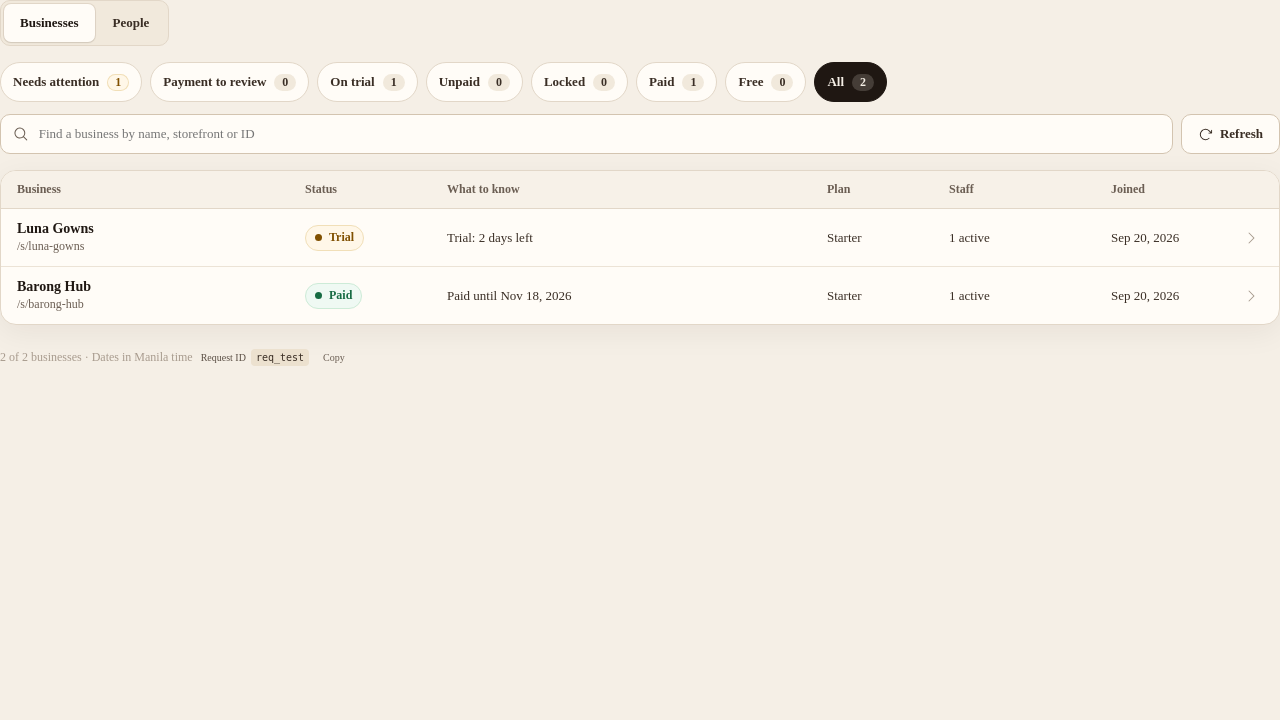
Test: ClientsPanel › opens a business from its row and goes back to the list
Step 1. Click the button "Luna Gowns /s/luna-gowns" → x=55, y=228, box x1=17 y1=221 x2=293 y2=254
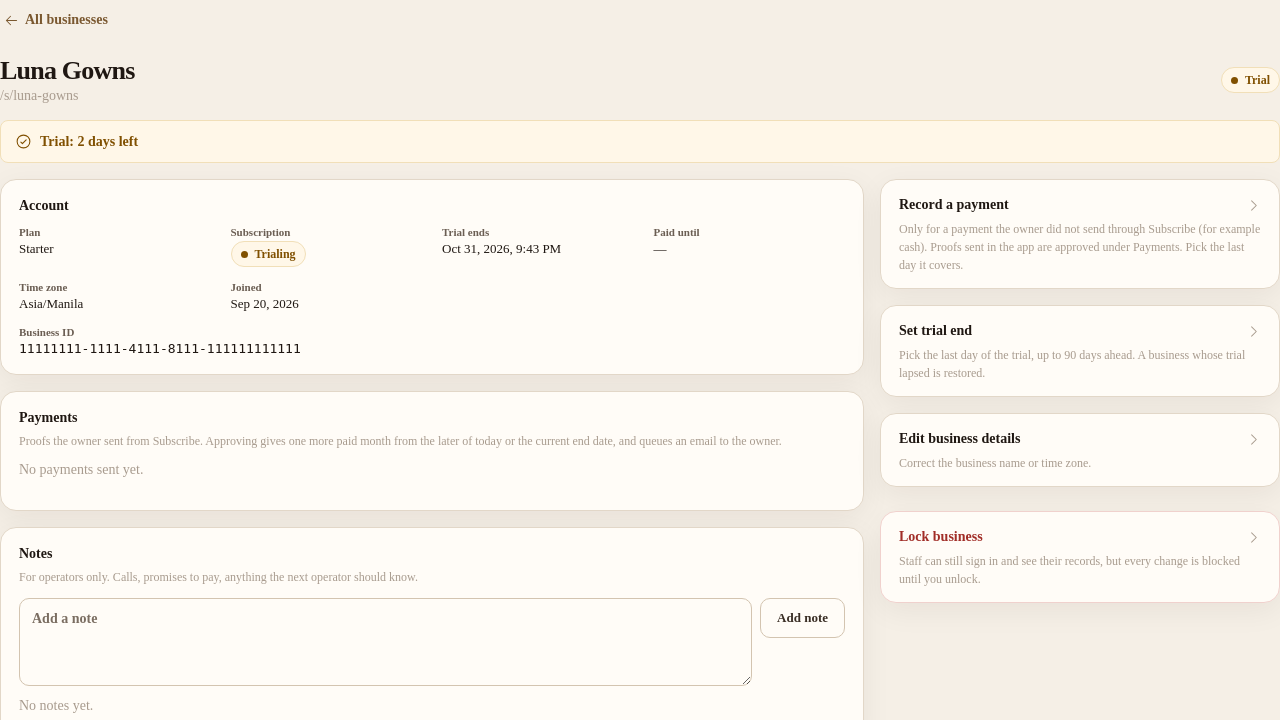
Step 2. Click the button "All businesses" → x=56, y=20, box x1=0 y1=0 x2=112 y2=40
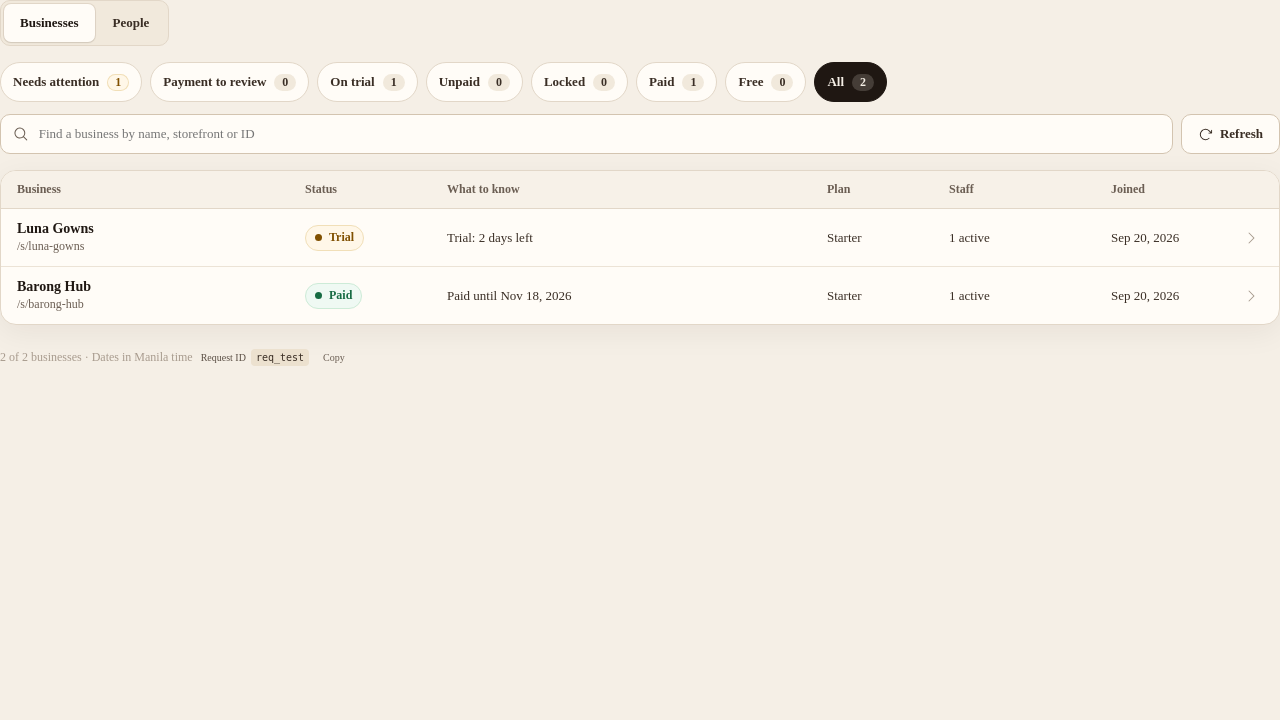
Check: the button "Needs attention 1" is shown, box x1=0 y1=62 x2=142 y2=102
